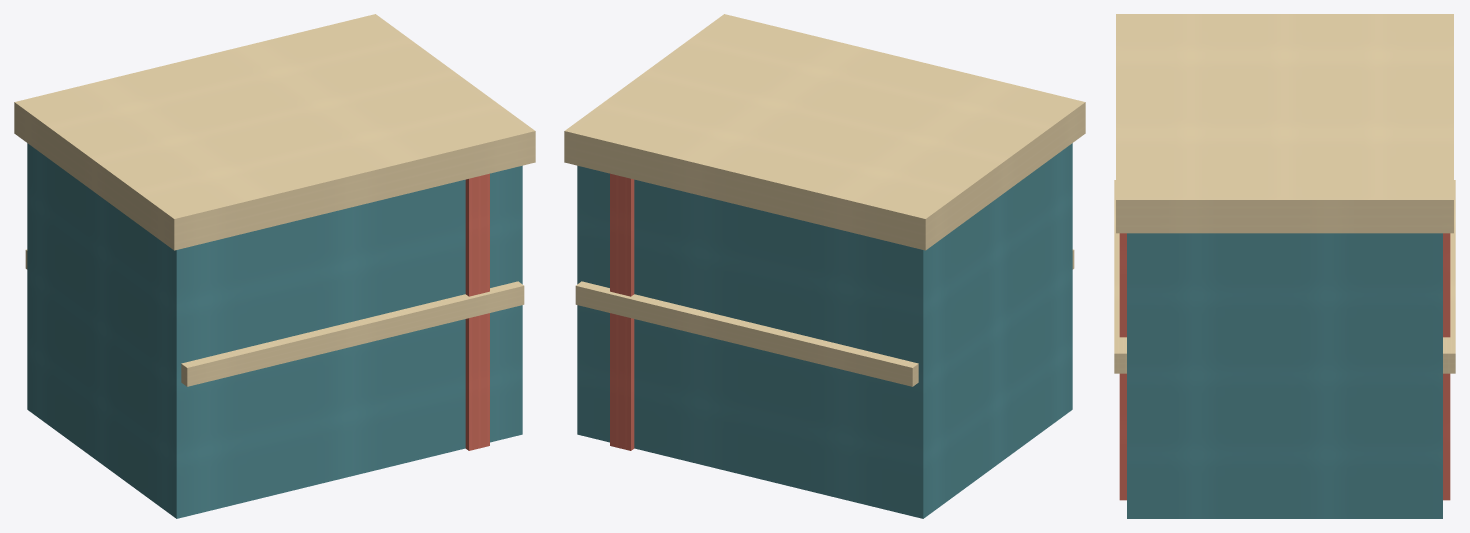
Rendered from atlas100-atompunk-util02.lod2.glb.
3 views of the same model, side by side, from view 1: azimuth 30°, elevation 25°; view 2: azimuth 150°, elevation 25°; view 3: azimuth 270°, elevation 25° (orthographic). The views are drawn at different scales.
Visible parts, largest first — view 1: atlas100-atompunk-util02:part-000, atlas100-atompunk-util02:part-005, atlas100-atompunk-util02:part-004, atlas100-atompunk-util02:part-002; view 2: atlas100-atompunk-util02:part-000, atlas100-atompunk-util02:part-005, atlas100-atompunk-util02:part-003, atlas100-atompunk-util02:part-002; view 3: atlas100-atompunk-util02:part-000, atlas100-atompunk-util02:part-005, atlas100-atompunk-util02:part-002, atlas100-atompunk-util02:part-003, atlas100-atompunk-util02:part-004.
Part boxes in pixels (x1=…): atlas100-atompunk-util02:part-000: x1=27, y1=143, x2=522, y2=518; atlas100-atompunk-util02:part-005: x1=14, y1=14, x2=535, y2=250; atlas100-atompunk-util02:part-004: x1=181, y1=281, x2=524, y2=386; atlas100-atompunk-util02:part-002: x1=465, y1=173, x2=489, y2=450; atlas100-atompunk-util02:part-000: x1=577, y1=143, x2=1072, y2=518; atlas100-atompunk-util02:part-005: x1=564, y1=14, x2=1085, y2=250; atlas100-atompunk-util02:part-003: x1=575, y1=281, x2=918, y2=386; atlas100-atompunk-util02:part-002: x1=610, y1=173, x2=634, y2=450; atlas100-atompunk-util02:part-000: x1=1127, y1=233, x2=1442, y2=518; atlas100-atompunk-util02:part-005: x1=1116, y1=14, x2=1453, y2=233; atlas100-atompunk-util02:part-002: x1=1119, y1=233, x2=1450, y2=500; atlas100-atompunk-util02:part-003: x1=1443, y1=180, x2=1455, y2=373; atlas100-atompunk-util02:part-004: x1=1114, y1=180, x2=1126, y2=373.
Bounding box in the file's own units: 1.23 × 0.9923 × 0.9514.
Materials: 3 (3 with a texture image).
